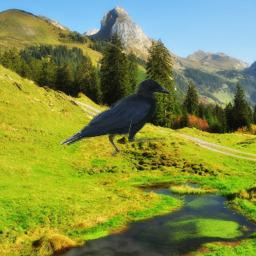Crow: (60, 78, 171, 157)
